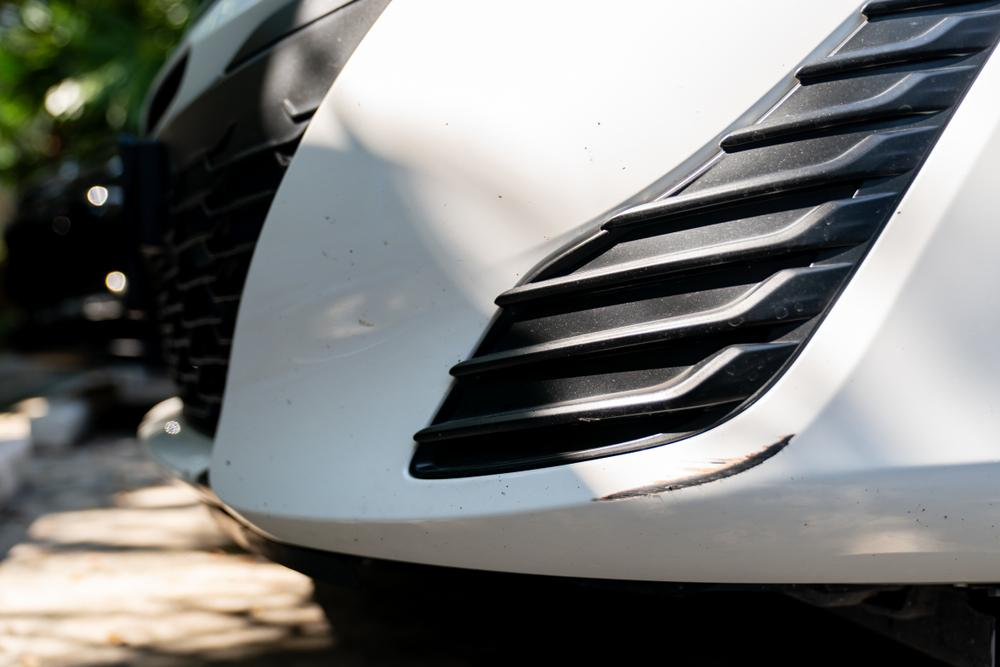scratch: (576, 425, 797, 507)
